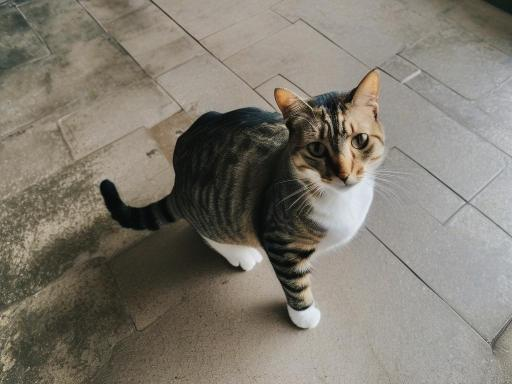cat_sitting: (100, 70, 384, 328)
